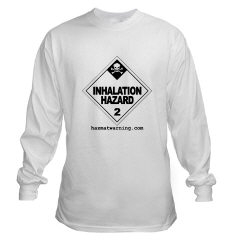Inhalation hazard: (85, 58, 148, 123)
